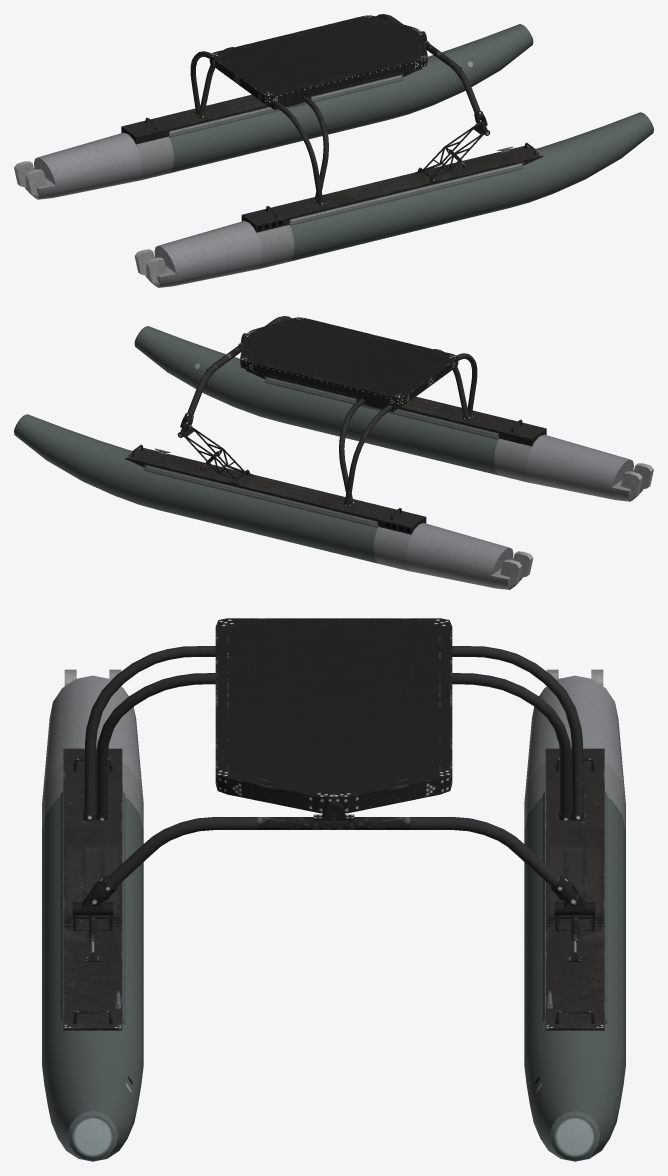
Rendered from WAM-V-Base.dae.
The picture shows the model from 3 angles, top to bottom: view 1: azimuth 30°, elevation 25°; view 2: azimuth 150°, elevation 25°; view 3: azimuth 270°, elevation 25°; orthographic projection. The views are drawn at different scales.
Visible parts, largest first — view 1: WamV; view 2: WamV; view 3: WamV.
Boxes of the visible parts, box(x1,y1,x2,y2) form: WamV: box(14, 14, 653, 287); WamV: box(14, 316, 653, 589); WamV: box(42, 618, 625, 1161).
Size of the model in its own units: 501 by 249 by 129.
Materials: 1 (1 with a texture image).
